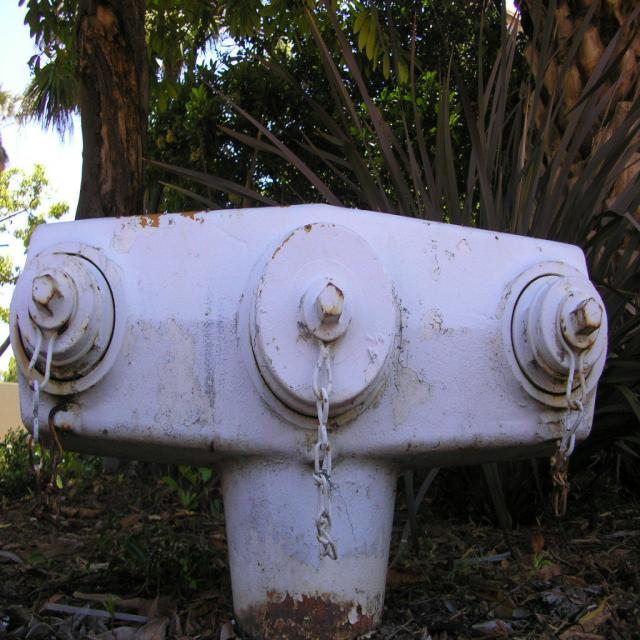fire_hydrant: (8, 204, 608, 639)
